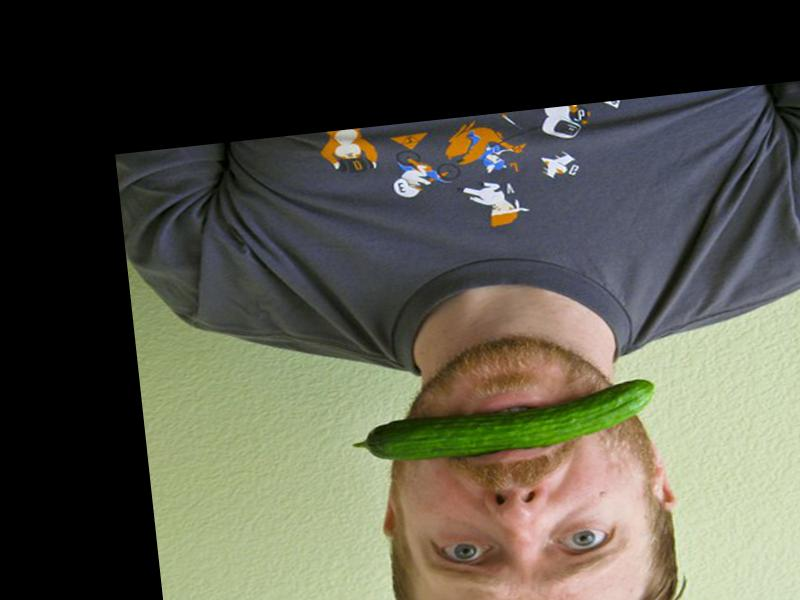Cucumber: (349, 377, 662, 467)
